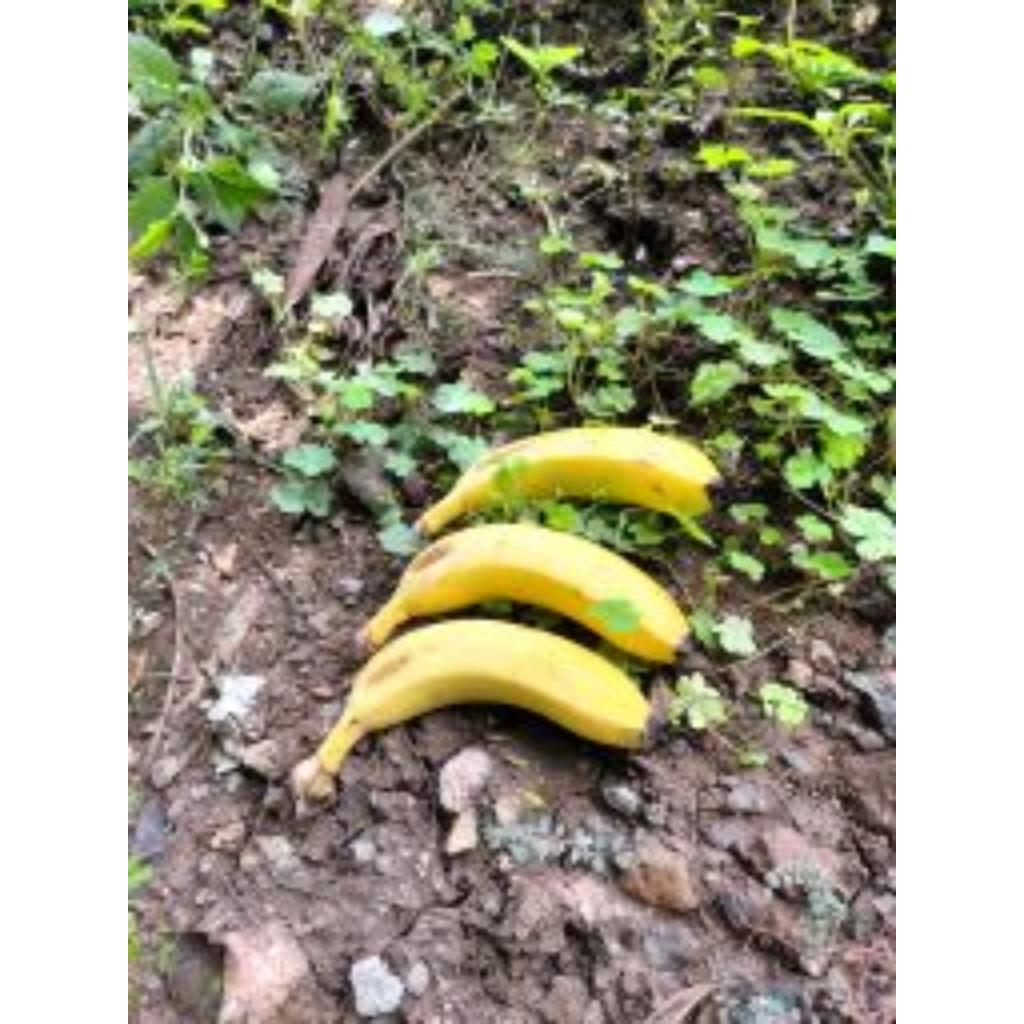banana: (320, 620, 650, 776), (366, 524, 688, 662), (418, 426, 720, 536)
